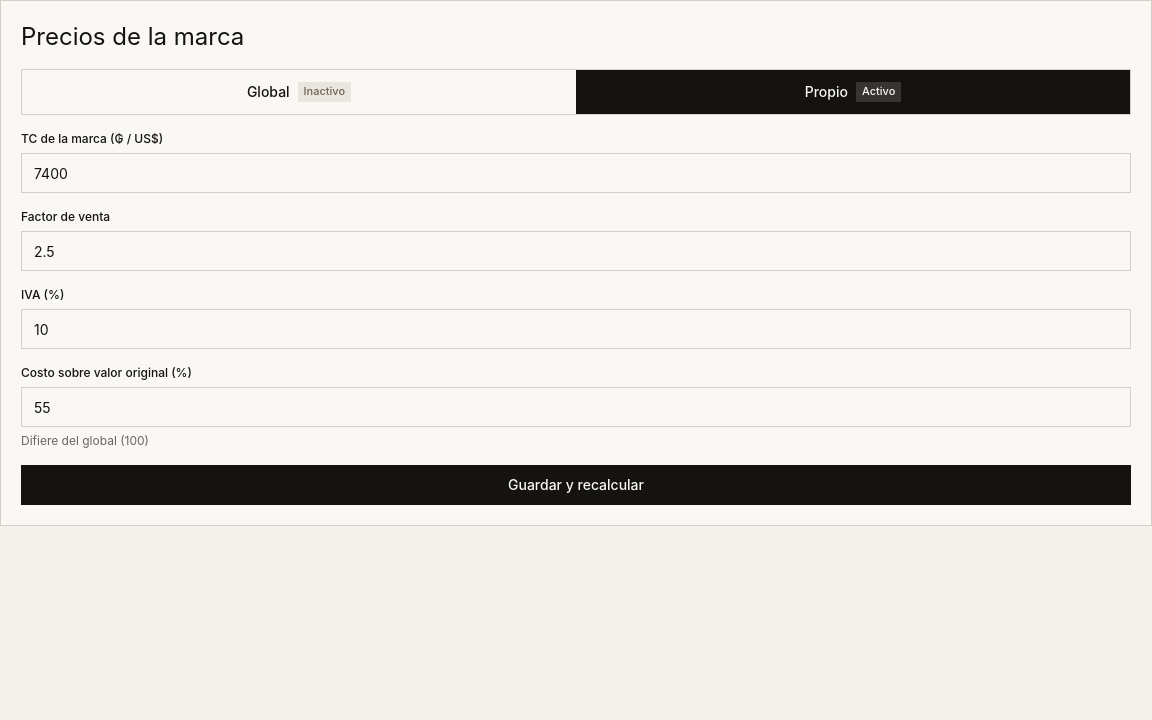
Test: LotPricingPanel › custom mode › submits the four values and shows the result
The image size is (1152, 720).
Replace the text in the number field labelled "IVA (%)" with "5" at coordinates (576, 329), box [21, 309, 1131, 349]
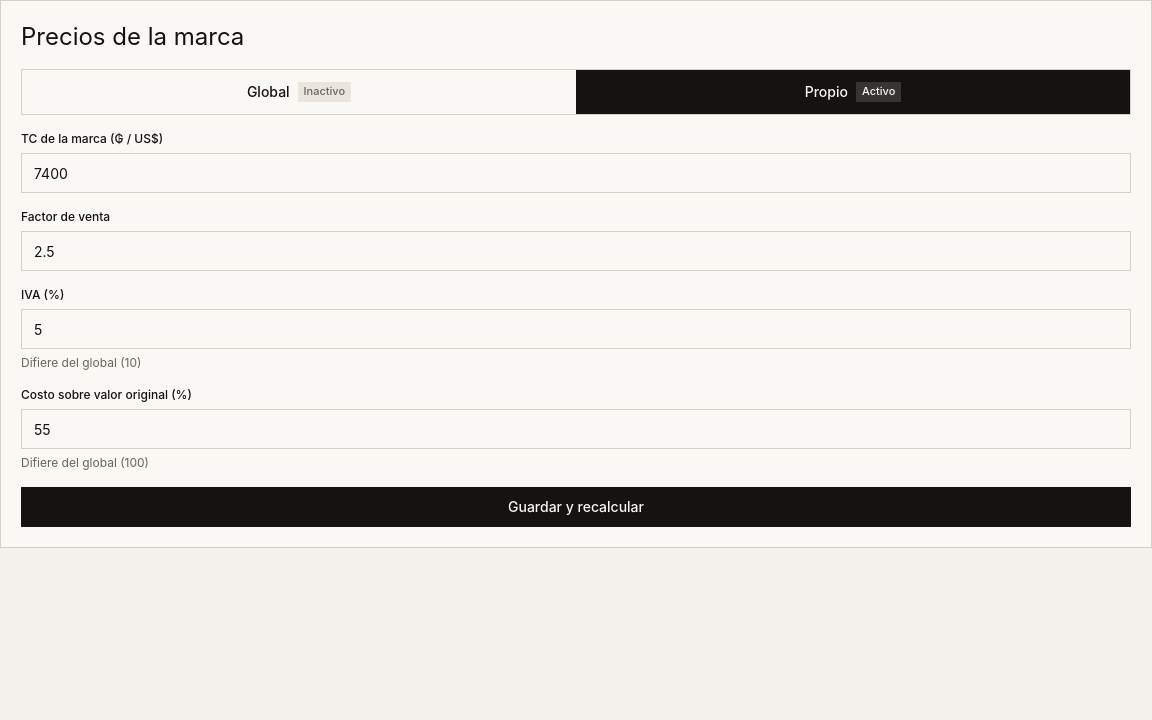
Submit the form named "Guardar y recalcular", box [21, 131, 1131, 527]
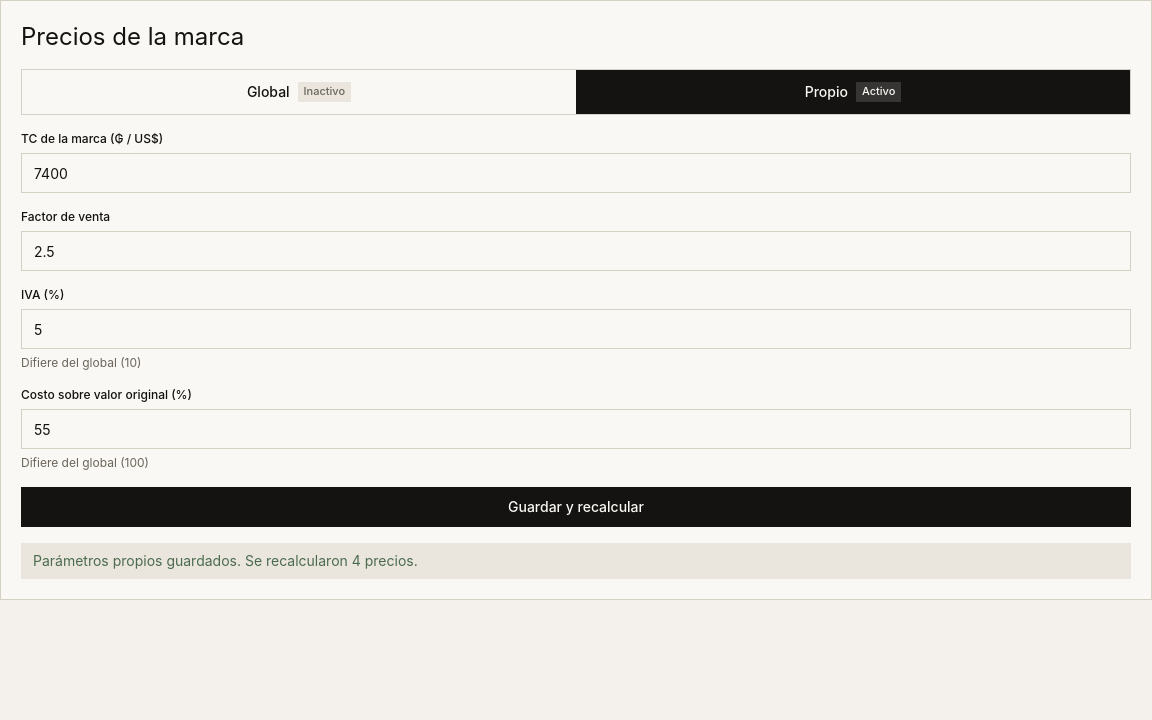
Expected: the message shows "Se recalcularon 4 precios", [33, 552, 418, 569]
